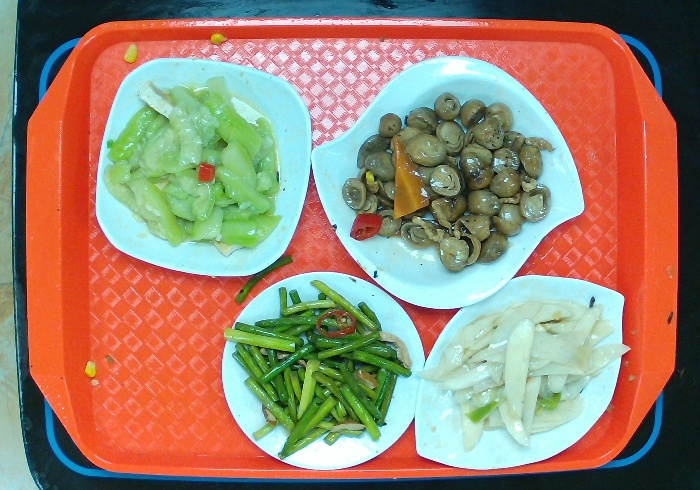RJxy-Da_Du_Pan: (402, 272, 633, 475)
RJxy-Shuang_Jiao_Pan: (305, 52, 589, 315)
RJxy-Si_Fang_Wan: (88, 51, 321, 283)
RJxy-Xiao_Yuan_Die: (215, 263, 431, 474)
